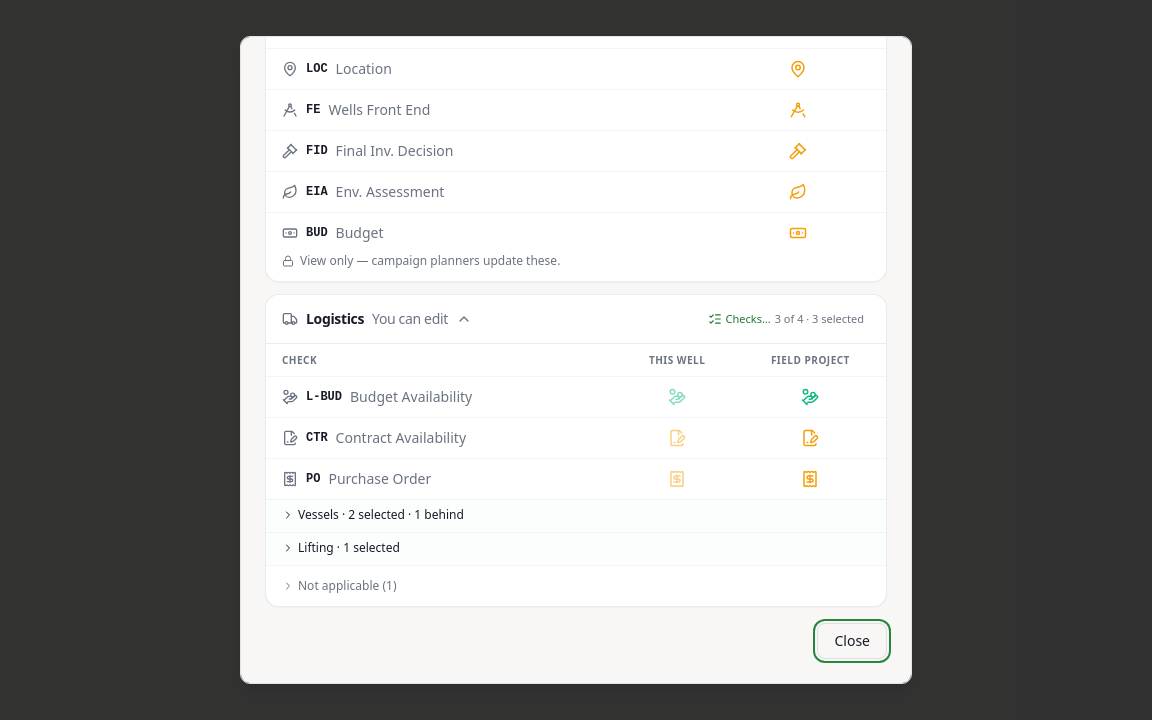
Scenario: Readiness panel — category sub-sections (spec §8.8) › folds each category to 'Vessels · 2 selected · 1 behind'; core rows stay as they are
The width and height of the screenshot is (1152, 720).
(page scrolled)
Check: the text "Budget Availability" is shown, box [350, 387, 472, 407]
Check: the button "Lifting · 1 selected" is shown, box [278, 540, 404, 556]
Click the button "Vessels · 2 selected · 1 behind": point(373, 515) [278, 507, 468, 523]
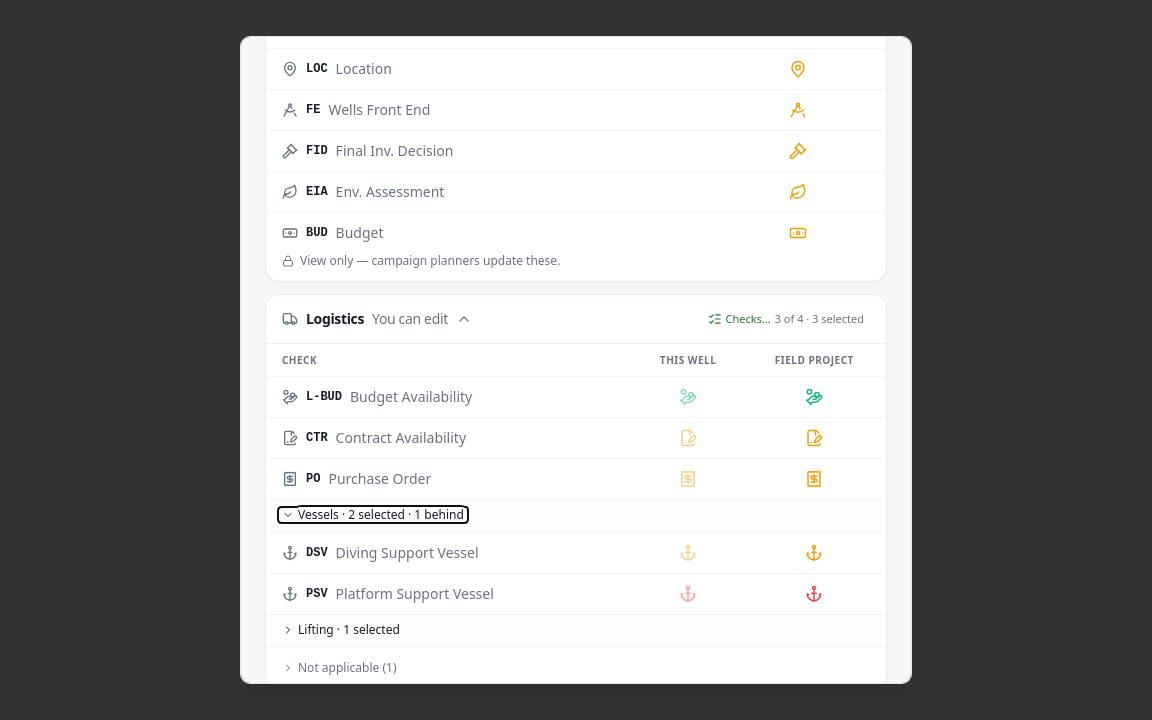
Check: the button "Vessels · 2 selected · 1 behind" is expanded, box [278, 507, 468, 523]
Check: the text "Platform Support Vessel" is shown, box [336, 584, 494, 604]
Check: the text "Diving Support Vessel" is shown, box [336, 543, 478, 563]
